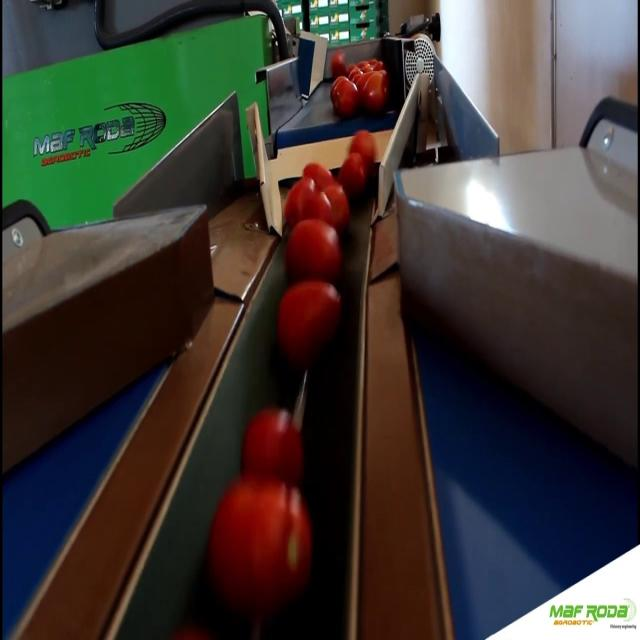Tomato: (211, 474, 314, 610), (278, 280, 342, 368), (241, 408, 301, 484), (284, 217, 342, 281), (321, 181, 357, 228), (288, 180, 327, 218), (336, 149, 368, 187), (365, 66, 387, 108), (352, 124, 378, 158), (302, 162, 336, 188), (334, 79, 359, 110), (329, 54, 345, 77)
